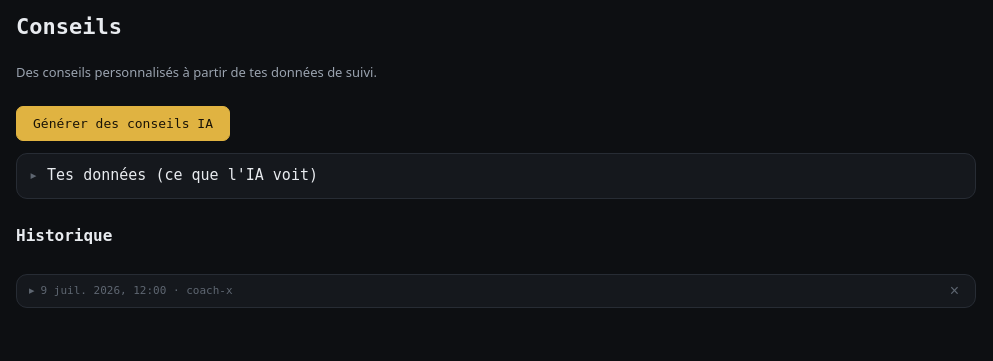
it: AdvicesPage — delete confirm & archive collapse (B-213/B-214) › expands then re-collapses via the same toggle (B-214)
Click the button "▸ 9 juil. 2026, 12:00 · coach-x". click: click(131, 291)
box: [29,284,233,298]
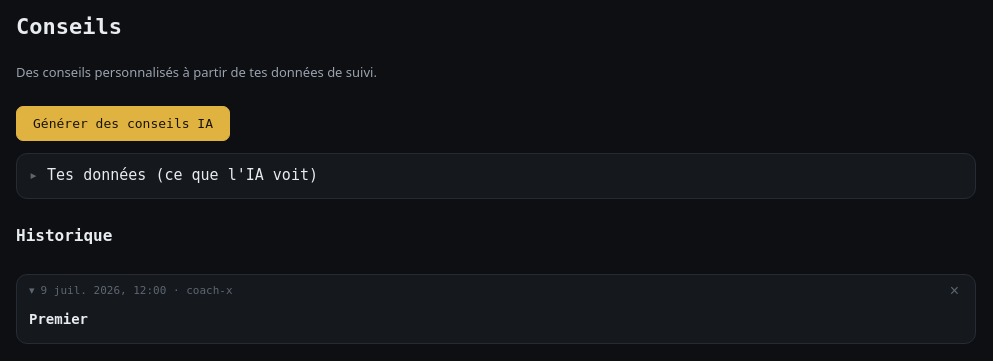
Now the heading "Premier" is shown, box [29,311,88,327]
Click the button "▾ 9 juil. 2026, 12:00 · coach-x". click: click(131, 291)
box: [29,284,233,298]
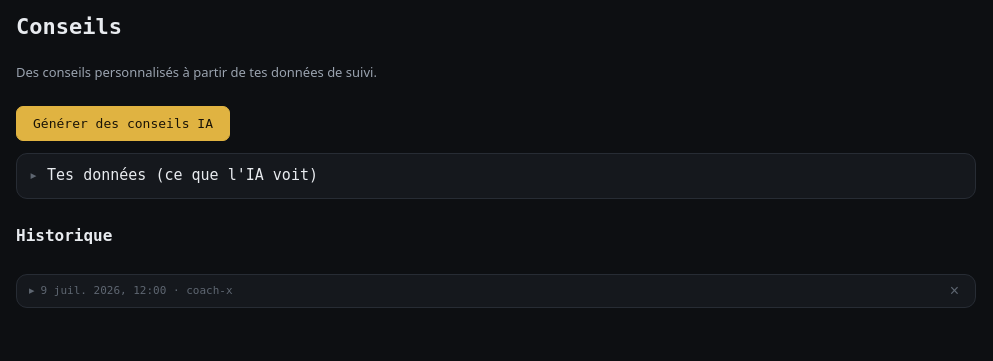
Now the heading "Premier" is gone
